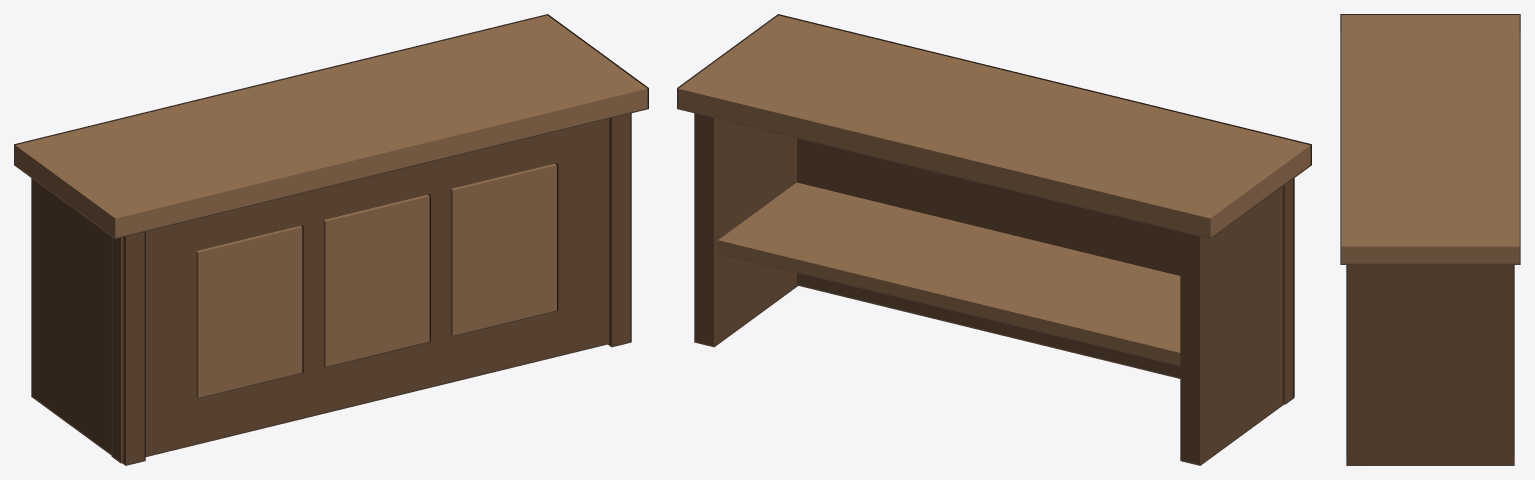
The model's file is sales_counter.glb.
The picture shows the model from 3 angles, left to right: view 1: azimuth 30°, elevation 25°; view 2: azimuth 150°, elevation 25°; view 3: azimuth 270°, elevation 25°; orthographic projection. The views are drawn at different scales.
Visible parts, largest first — view 1: Top, Front, Side-1, Panel0.002, Panel0, Panel0.001, Side1; view 2: Top, Shelf, Front, Side-1, Side1; view 3: Top, Side1, Front.
Part boxes in pixels (x1,y1,x2,y2): Top: [14, 14, 648, 239]; Front: [111, 119, 609, 463]; Side-1: [31, 178, 145, 465]; Panel0.002: [450, 163, 558, 336]; Panel0: [195, 225, 303, 398]; Panel0.001: [323, 194, 430, 367]; Side1: [608, 113, 631, 347]; Top: [677, 14, 1311, 239]; Shelf: [718, 182, 1180, 366]; Front: [797, 138, 1294, 404]; Side-1: [1180, 178, 1294, 465]; Side1: [694, 113, 797, 347]; Top: [1340, 14, 1520, 264]; Side1: [1346, 265, 1514, 465]; Front: [1351, 265, 1366, 465].
Size of the model in its own units: 2.31 by 1.05 by 0.7569.
